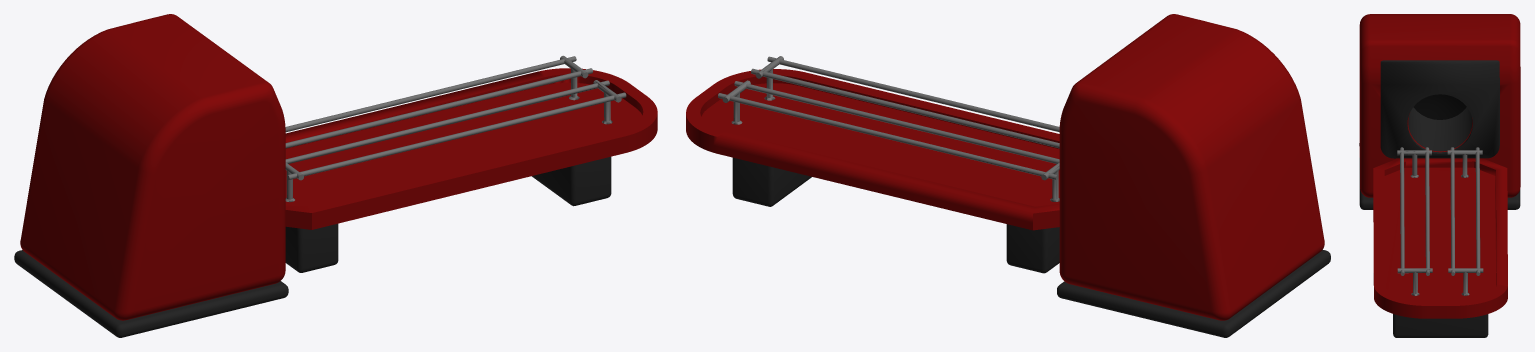
File: bowlingBallStand2.obj
The picture shows the model from 3 angles, left to right: view 1: azimuth 30°, elevation 25°; view 2: azimuth 150°, elevation 25°; view 3: azimuth 270°, elevation 25°; orthographic projection. The views are drawn at different scales.
Parts seen in each view (by area): view 1: bowlingBallStand2; view 2: bowlingBallStand2; view 3: bowlingBallStand2.
Part boxes in pixels (x1,y1,x2,y2): bowlingBallStand2: [14, 14, 657, 337]; bowlingBallStand2: [686, 14, 1330, 337]; bowlingBallStand2: [1359, 14, 1520, 337].
Bounding box in the file's own units: 1.76 × 0.6322 × 0.561.
